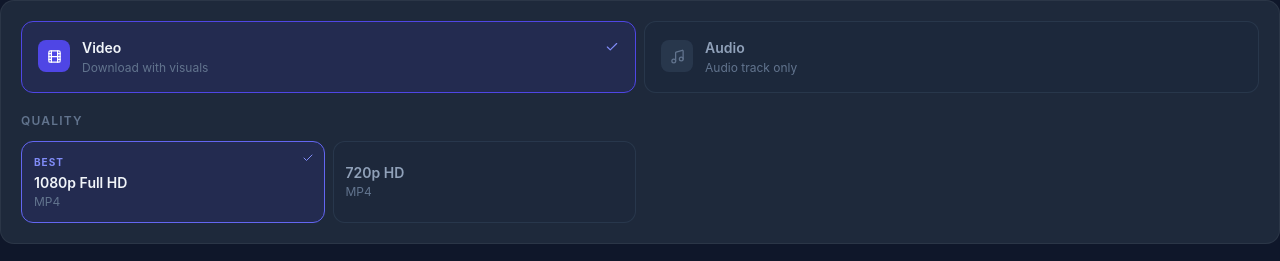
Test: FormatSelector — video quality selection › marks the selected quality card as aria-checked
Click the radio button labelled "720p HD mp4" at coordinates (375, 172), box [332, 141, 636, 222]
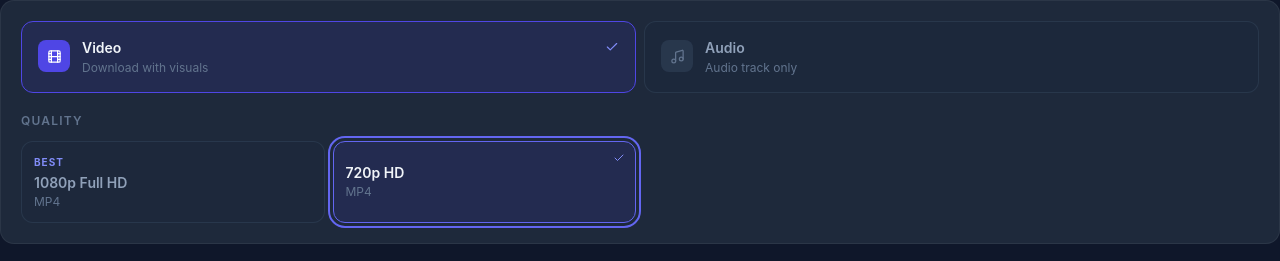
Expected: the radio button labelled "720p HD mp4" is checked, [332, 141, 636, 222]
